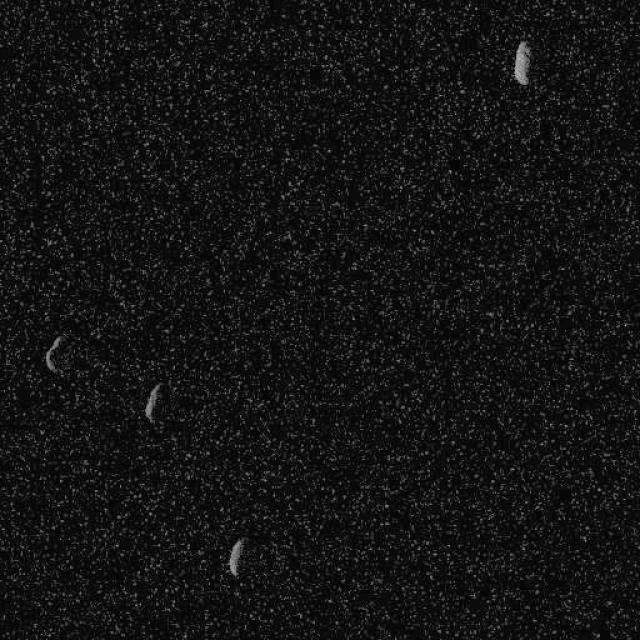D2: (44, 334, 68, 375), (142, 382, 166, 422), (512, 40, 532, 86), (226, 536, 244, 576)
